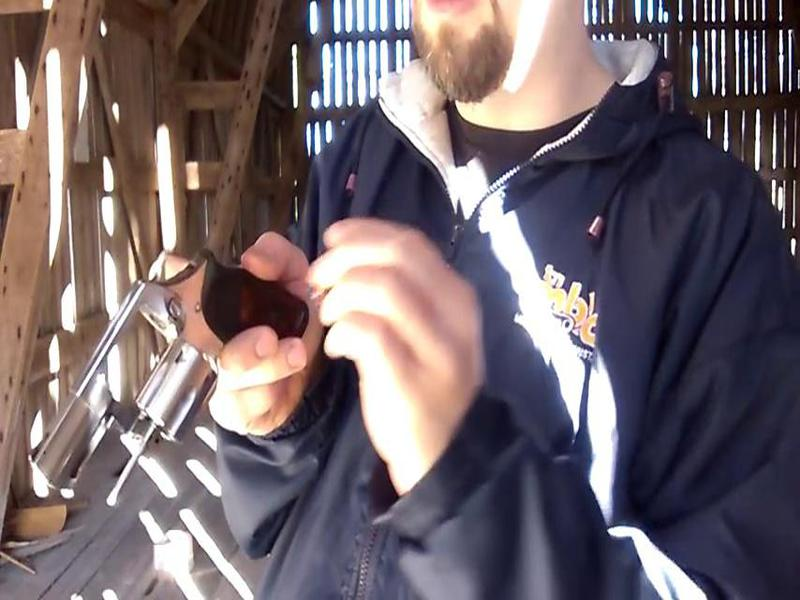Revolver: (31, 235, 309, 520)
